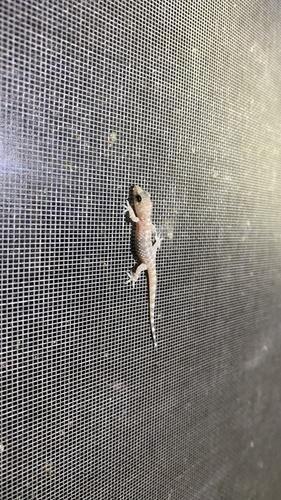lizard: (124, 182, 175, 353)
